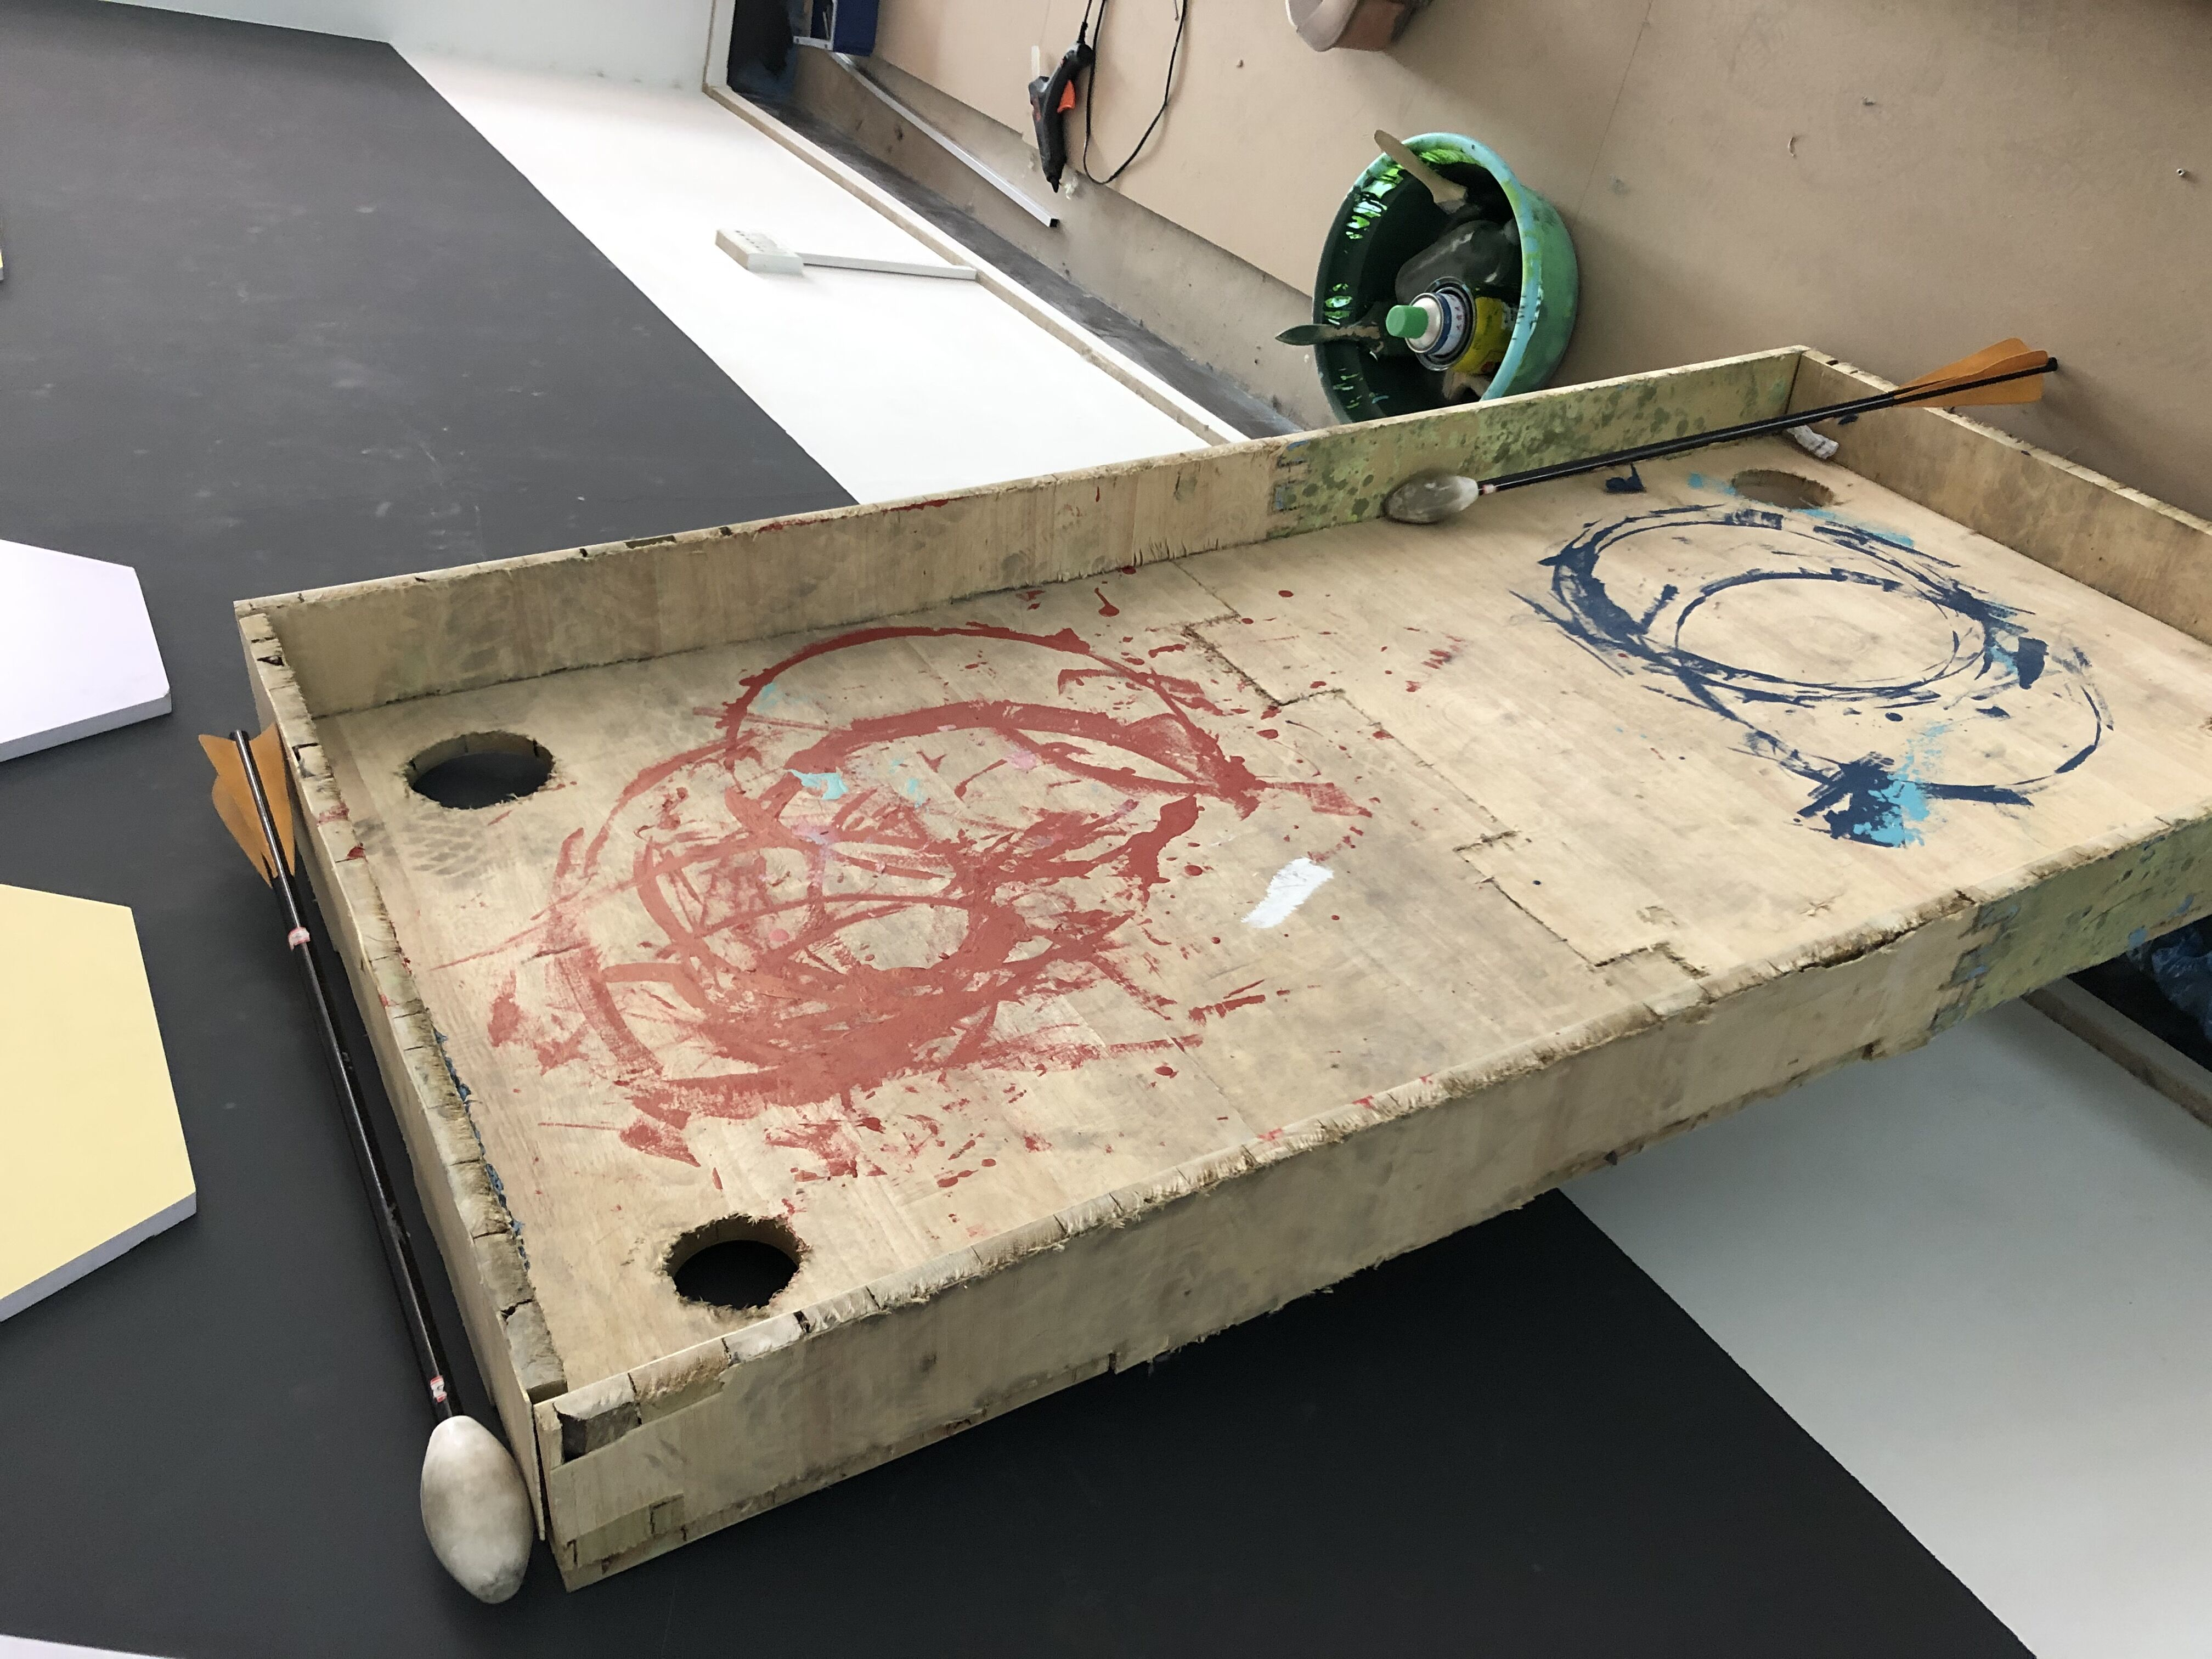arrow: (197, 718, 536, 1605), (1381, 336, 2062, 525)
arrowFront: (415, 1413, 538, 1607), (1379, 467, 1480, 526)
